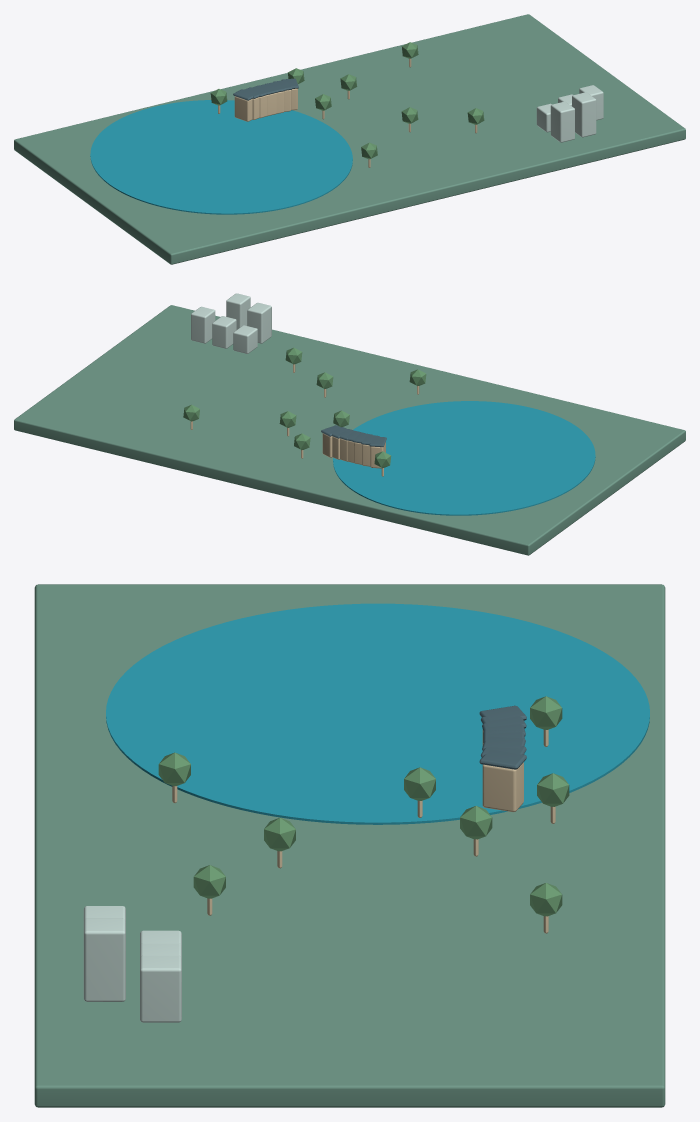
The model's file is suzhou-route.glb.
3 views of the same model, one above another, from view 1: azimuth 30°, elevation 25°; view 2: azimuth 150°, elevation 25°; view 3: azimuth 270°, elevation 25° (orthographic). The views are drawn at different scales.
Parts seen in each view (by area): view 1: Diagram base, East Taihu schematic, Qibao schematic block.004, Qibao schematic block.003, Resort schematic wing, Qibao schematic block.002; view 2: Diagram base, East Taihu schematic, Qibao schematic block.003, Qibao schematic block.002, Qibao schematic block.001, Qibao schematic block.004, Qibao schematic block; view 3: Diagram base, East Taihu schematic, Qibao schematic block.004, Qibao schematic block.002, Resort schematic wing.006, Icosphere.005, Icosphere.003, Icosphere.006, Icosphere.001, Icosphere.007, Icosphere.002, Icosphere.004 (+1 smaller).
Part boxes in pixels (left/top/right/bottom): Diagram base: left=14, top=14, right=685, bottom=264; East Taihu schematic: left=90, top=100, right=352, bottom=214; Qibao schematic block.004: left=572, top=92, right=596, bottom=137; Qibao schematic block.003: left=550, top=101, right=574, bottom=142; Resort schematic wing: left=234, top=96, right=252, bottom=121; Qibao schematic block.002: left=579, top=85, right=603, bottom=120; Diagram base: left=14, top=305, right=685, bottom=555; East Taihu schematic: left=333, top=401, right=595, bottom=515; Qibao schematic block.003: left=247, top=302, right=271, bottom=343; Qibao schematic block.002: left=191, top=306, right=215, bottom=343; Qibao schematic block.001: left=212, top=316, right=236, bottom=348; Qibao schematic block.004: left=226, top=293, right=250, bottom=329; Qibao schematic block: left=233, top=325, right=257, bottom=353; Diagram base: left=34, top=584, right=665, bottom=1107; East Taihu schematic: left=106, top=603, right=649, bottom=824; Qibao schematic block.004: left=83, top=918, right=125, bottom=1001; Qibao schematic block.002: left=140, top=955, right=181, bottom=1022; Resort schematic wing.006: left=482, top=762, right=523, bottom=812; Icosphere.005: left=193, top=865, right=225, bottom=898; Icosphere.003: left=460, top=806, right=492, bottom=839; Icosphere.006: left=530, top=883, right=562, bottom=916; Icosphere.001: left=537, top=773, right=569, bottom=806; Icosphere.007: left=158, top=752, right=190, bottom=786; Icosphere.002: left=530, top=696, right=562, bottom=729; Icosphere.004: left=264, top=817, right=295, bottom=851.
Bounding box in the file's own units: 17 × 1.6 × 9.
